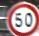Speed Limit -50-: (0, 0, 38, 35)
